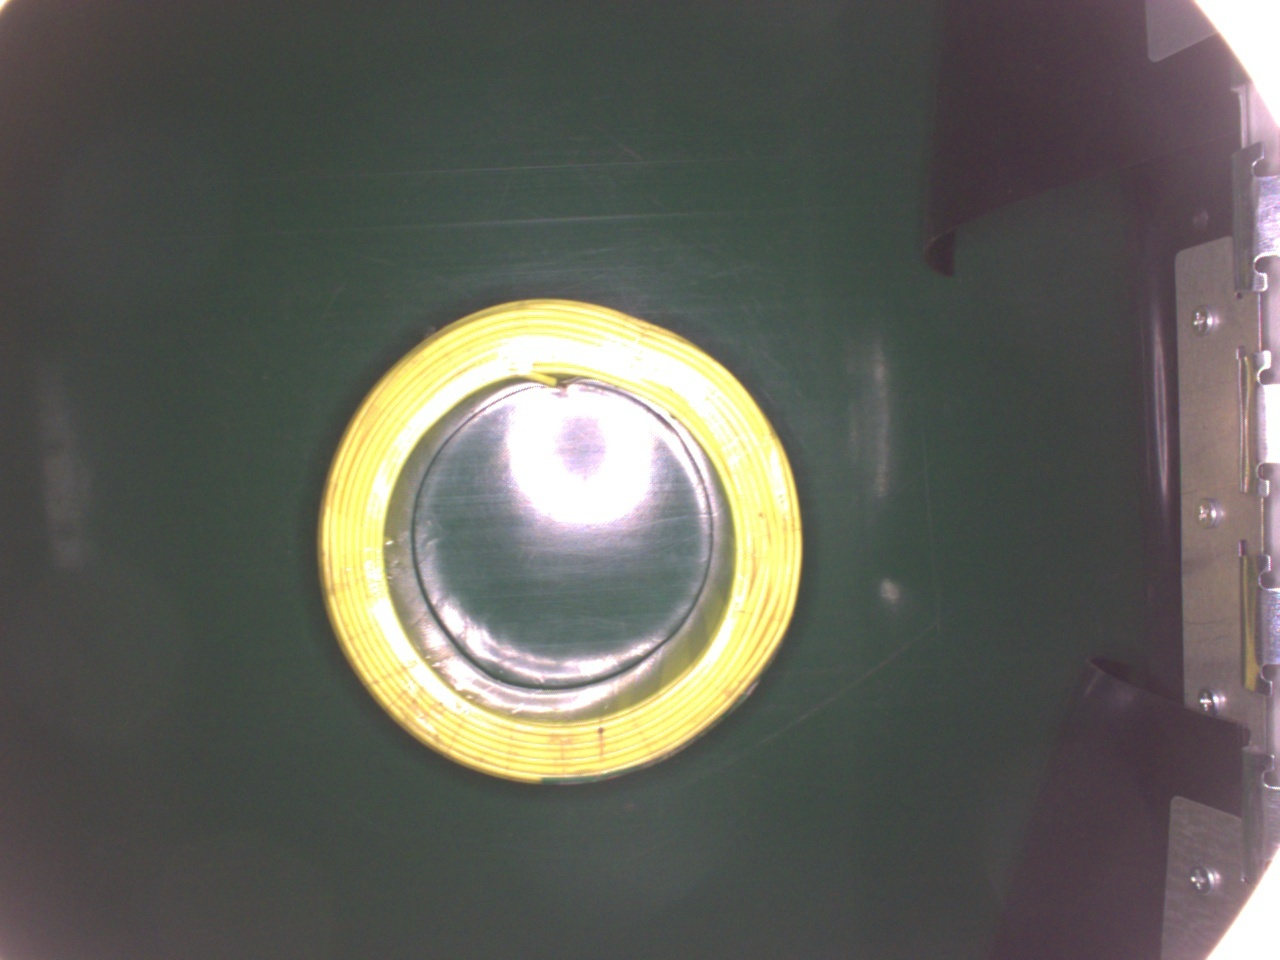yellow: (322, 285, 806, 779)
